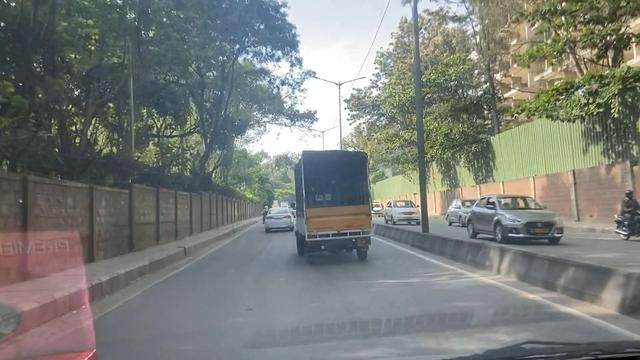HMV: (292, 146, 375, 262)
